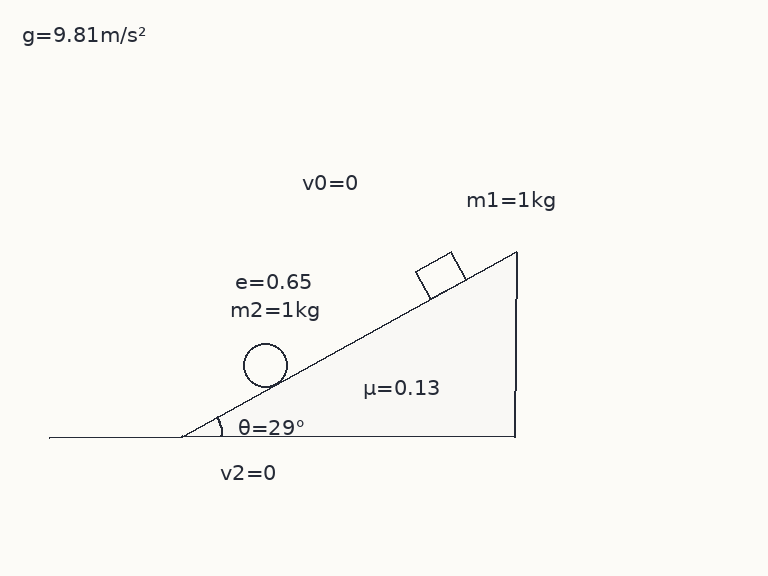ball: (241, 341, 289, 389)
block: (413, 250, 468, 301)
ramp: (180, 249, 517, 438)
